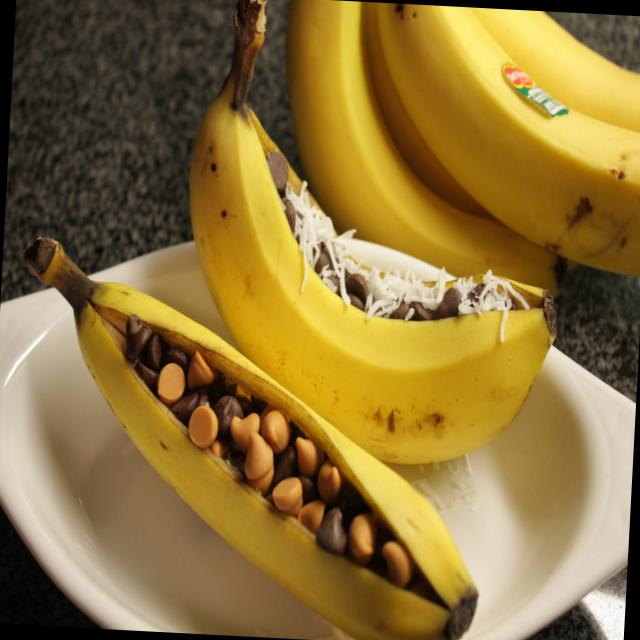banana: (50, 279, 491, 640), (158, 76, 546, 472), (266, 0, 607, 319), (352, 2, 640, 291)
